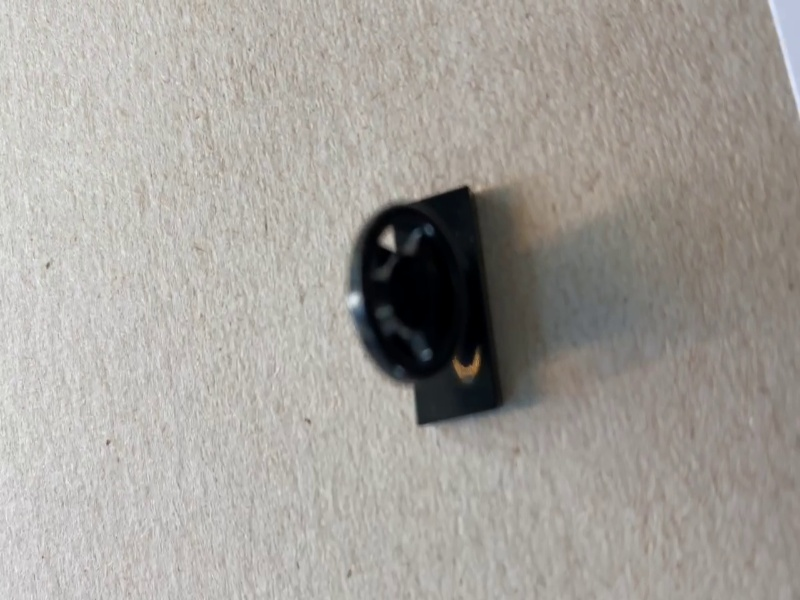steering wheel: (344, 184, 504, 427)
